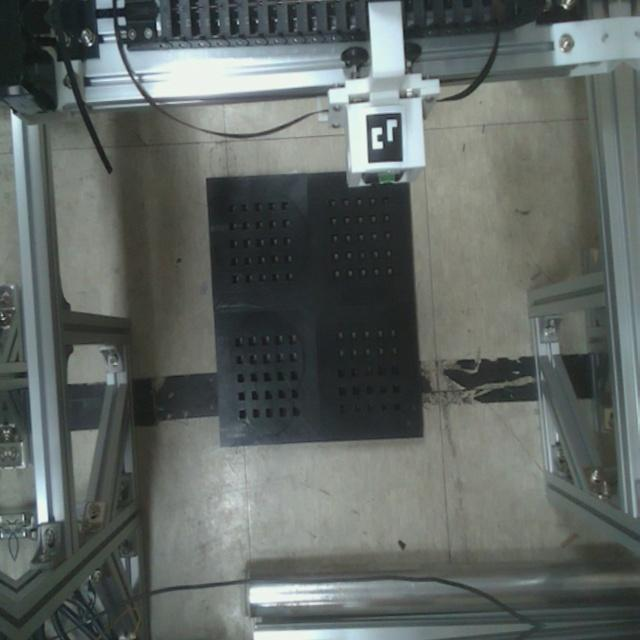pallet: (198, 160, 430, 452)
